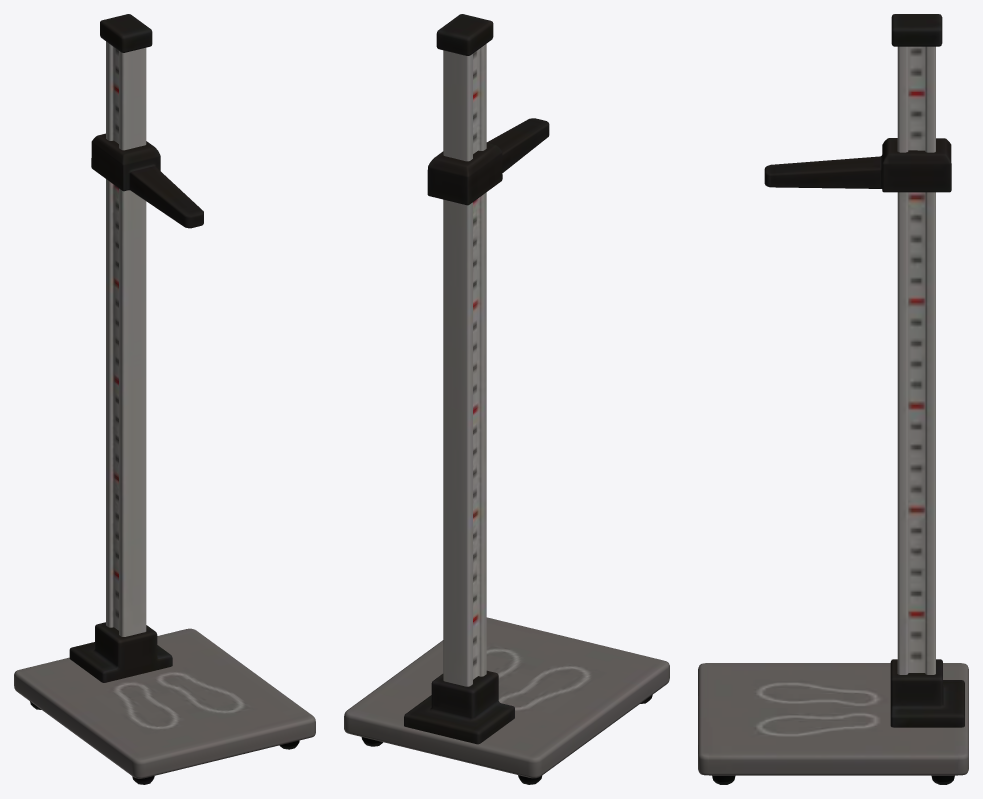
The picture shows the model from 3 angles, left to right: view 1: azimuth 30°, elevation 25°; view 2: azimuth 150°, elevation 25°; view 3: azimuth 270°, elevation 25°; orthographic projection. The views are drawn at different scales.
Size of the model in its own units: 5.94 by 21.05 by 7.15.
1 material, 1 textured.
